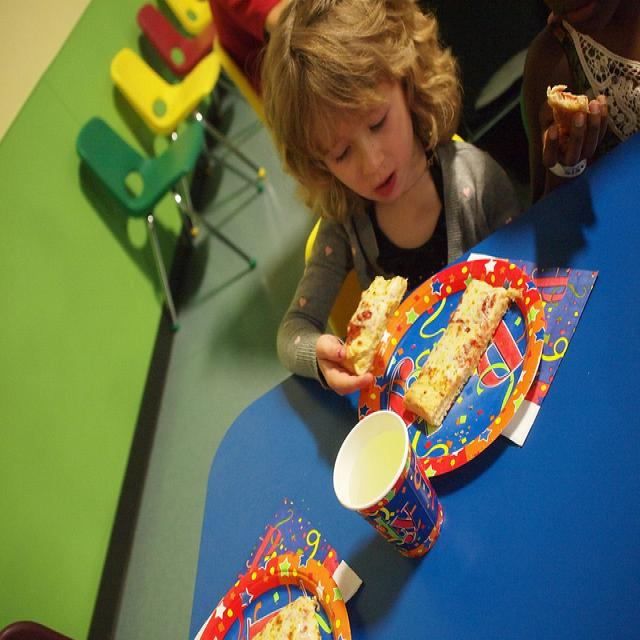chair: (72, 114, 261, 330), (109, 48, 267, 235), (302, 216, 362, 341), (137, 5, 216, 80), (169, 0, 213, 38)
dining table: (192, 132, 638, 627)
